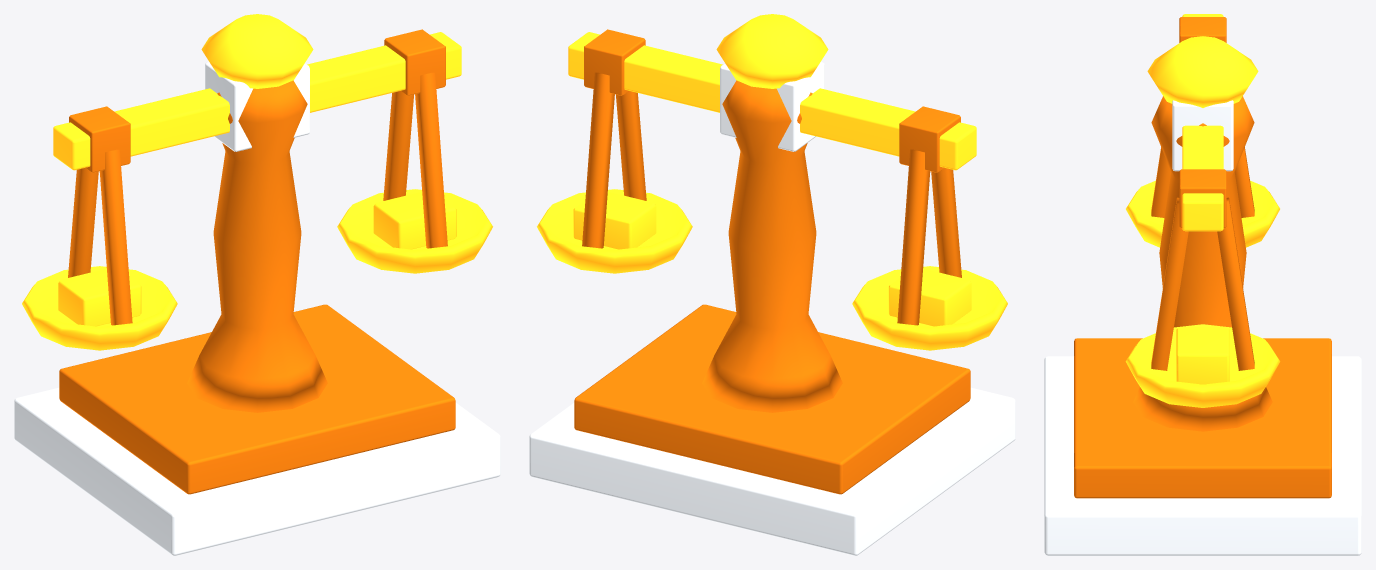
Rendered from trade_balance_scale.glb.
3 renders of one model, left to right at view 1: azimuth 30°, elevation 25°; view 2: azimuth 150°, elevation 25°; view 3: azimuth 270°, elevation 25°, orthographic.
Visible parts, largest first — view 1: WarRoomTradeBalanceScale; view 2: WarRoomTradeBalanceScale; view 3: WarRoomTradeBalanceScale.
Boxes of the visible parts, x1=… form: WarRoomTradeBalanceScale: x1=14, y1=14, x2=500, y2=555; WarRoomTradeBalanceScale: x1=529, y1=14, x2=1015, y2=555; WarRoomTradeBalanceScale: x1=1044, y1=14, x2=1361, y2=555.
Bounding box in the file's own units: 0.52 × 0.48 × 0.32.
